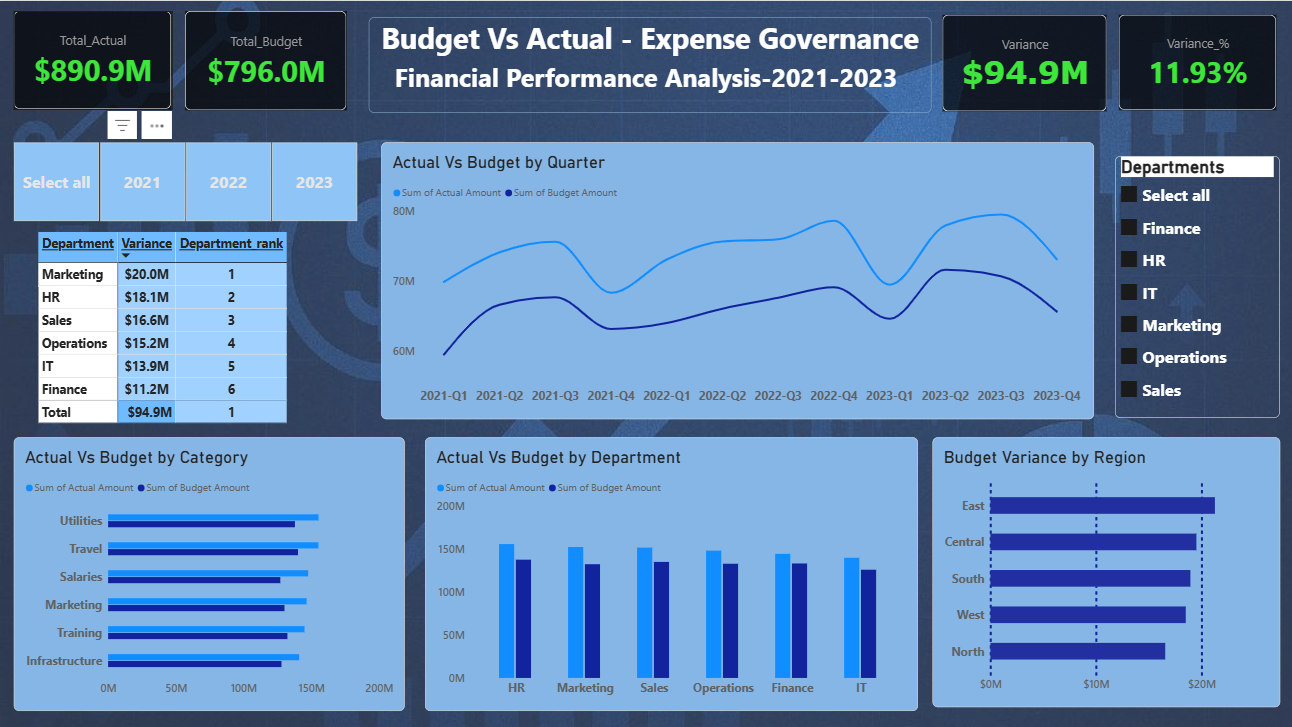

The dashboard page shown, as its layout file describes it:
{"tool":"powerbi","page":{"name":"Page 1","canvas":[1920,1080],"ordinal":0},"visuals":[{"type":"cardVisual","fields":{"Data":["Fact_BudgetActual.Total_Budget"]},"box":[273.6,15.1,239.6,147.2],"z":0},{"type":"cardVisual","fields":{"Data":["Fact_BudgetActual.Total_Actual"]},"box":[20.8,15.1,234,145.3],"z":1000},{"type":"cardVisual","fields":{"Data":["Fact_BudgetActual.Variance"]},"box":[1396.2,20.8,243.4,143.4],"z":2000},{"type":"cardVisual","fields":{"Data":["Fact_BudgetActual.Variance_%"]},"box":[1656.6,20.8,234,141.5],"z":3000},{"type":"clusteredColumnChart","title":"Actual Vs Budget by Department","fields":{"Category":["Dim_Department.Department"],"Y":["Sum(Fact_BudgetActual.Actual Amount)","Sum(Fact_BudgetActual.Budget Amount)"]},"box":[630.2,647.2,730.2,405.7],"z":4000},{"type":"lineChart","title":"Actual Vs Budget by Quarter","fields":{"Y":["Sum(Fact_BudgetActual.Actual Amount)","Sum(Fact_BudgetActual.Budget Amount)"],"Category":["Dim_Date.Year_Quarter"]},"box":[564.2,209.4,1056,410],"z":5000},{"type":"clusteredBarChart","title":"Budget Variance by Region","fields":{"Y":["Fact_BudgetActual.Variance"],"Category":["Dim_Region.Region"]},"box":[1381.1,647.2,515.1,400],"z":6000},{"type":"clusteredBarChart","title":"Actual Vs Budget by Category","fields":{"Category":["Dim_Category.Category"],"Y":["Sum(Fact_BudgetActual.Actual Amount)","Sum(Fact_BudgetActual.Budget Amount)"]},"box":[20.8,647.2,579.2,405.7],"z":7000},{"type":"slicer","fields":{"Values":["Dim_Date.Year"]},"box":[0,208,548,120],"z":8000},{"type":"slicer","fields":{"Values":["Dim_Department.Department"]},"box":[1652,230,244,388],"z":9000},{"type":"pivotTable","fields":{"Rows":["Dim_Department.Department"],"Values":["Fact_BudgetActual.Variance","Dim_Department.Department_rank"]},"box":[39.6,328.3,462.3,318.9],"z":10000},{"type":"textbox","box":[547.2,24.5,834,141.5],"z":14000}]}

Visuals, with their boxes in screenshot pixels (x1, y1, x2, y2), scaled from the page's 1920x1080 canvas onto the 1292x727 screenshot:
cardVisual - Fact_BudgetActual.Total_Budget: crop(184, 10, 345, 109)
cardVisual - Fact_BudgetActual.Total_Actual: crop(14, 10, 171, 108)
cardVisual - Fact_BudgetActual.Variance: crop(940, 14, 1103, 111)
cardVisual - Fact_BudgetActual.Variance_%: crop(1115, 14, 1272, 109)
"Actual Vs Budget by Department" clusteredColumnChart: crop(424, 436, 915, 709)
"Actual Vs Budget by Quarter" lineChart: crop(380, 141, 1090, 417)
"Budget Variance by Region" clusteredBarChart: crop(929, 436, 1276, 705)
"Actual Vs Budget by Category" clusteredBarChart: crop(14, 436, 404, 709)
slicer - Dim_Date.Year: crop(0, 140, 369, 221)
slicer - Dim_Department.Department: crop(1112, 155, 1276, 416)
pivotTable - Dim_Department.Department x Fact_BudgetActual.Variance: crop(27, 221, 338, 436)
textbox: crop(368, 16, 929, 112)
